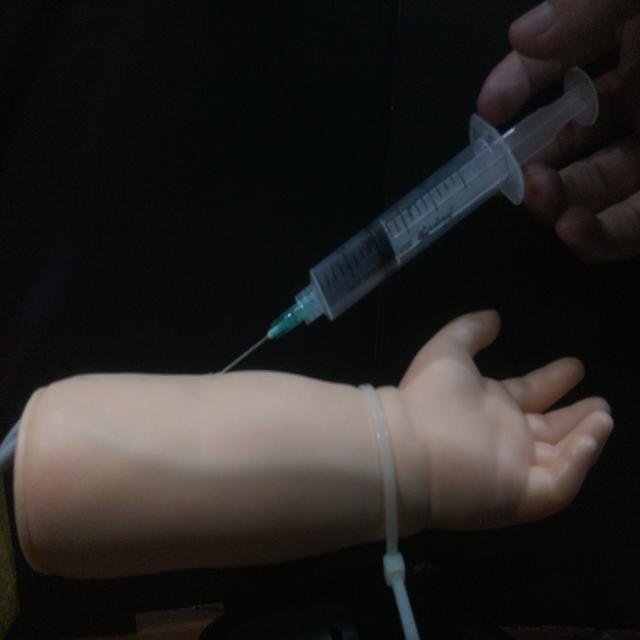20deg: (213, 62, 601, 376)
